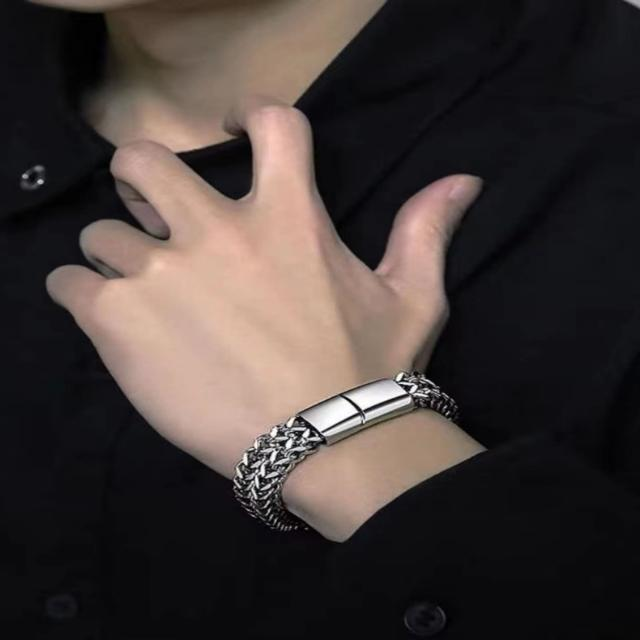bracelet: (107, 318, 541, 548)
